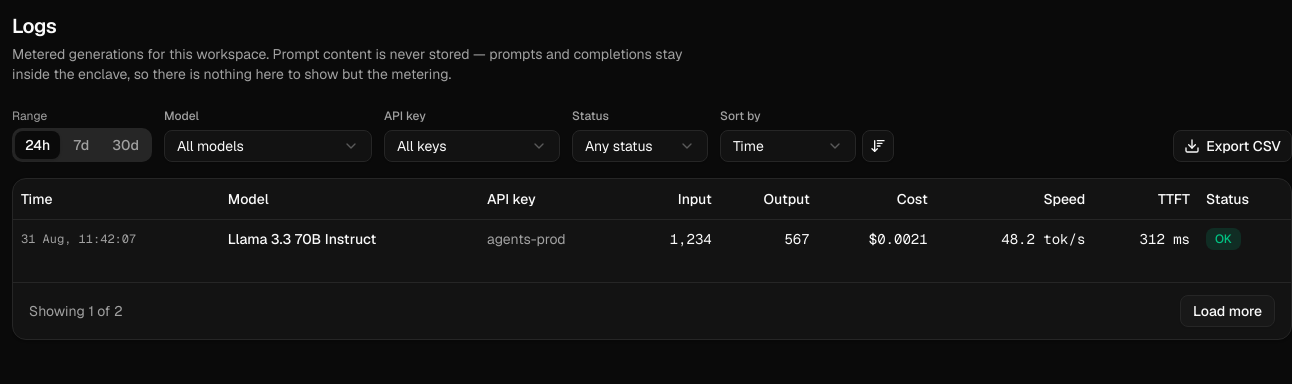
Test: LogsScreen › appends the next page instead of replacing the first
Expected: the text "Llama 3.3 70B Instruct" is shown, [220,219,479,258]
Expected: the text "Showing 1 of 2" is shown, [29,300,123,320]
Step 1. Click the button "Load more" → [1228, 310], box [1180,294,1275,326]
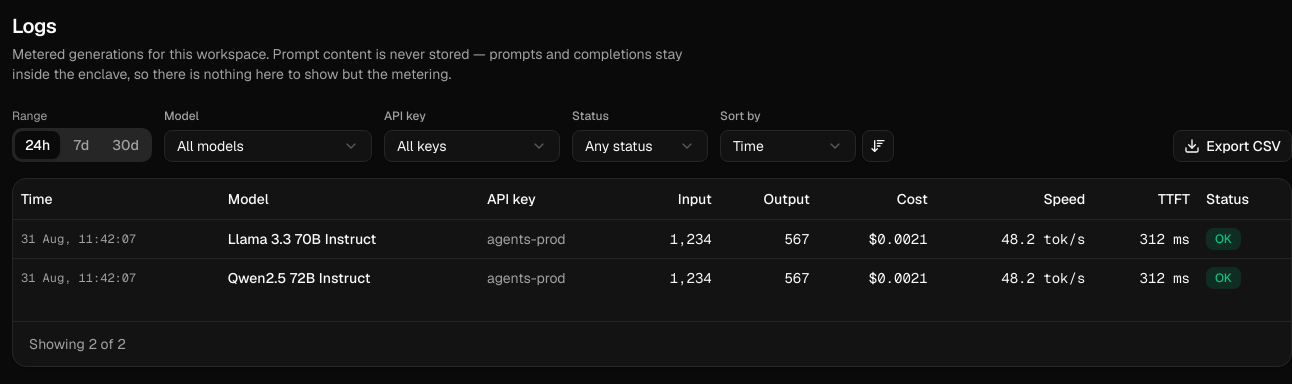
Expected: the text "Qwen2.5 72B Instruct" is shown, [220,258,479,296]
Expected: the text "Showing 2 of 2" is shown, [29,334,126,354]
Expected: the button "Load more" is gone
